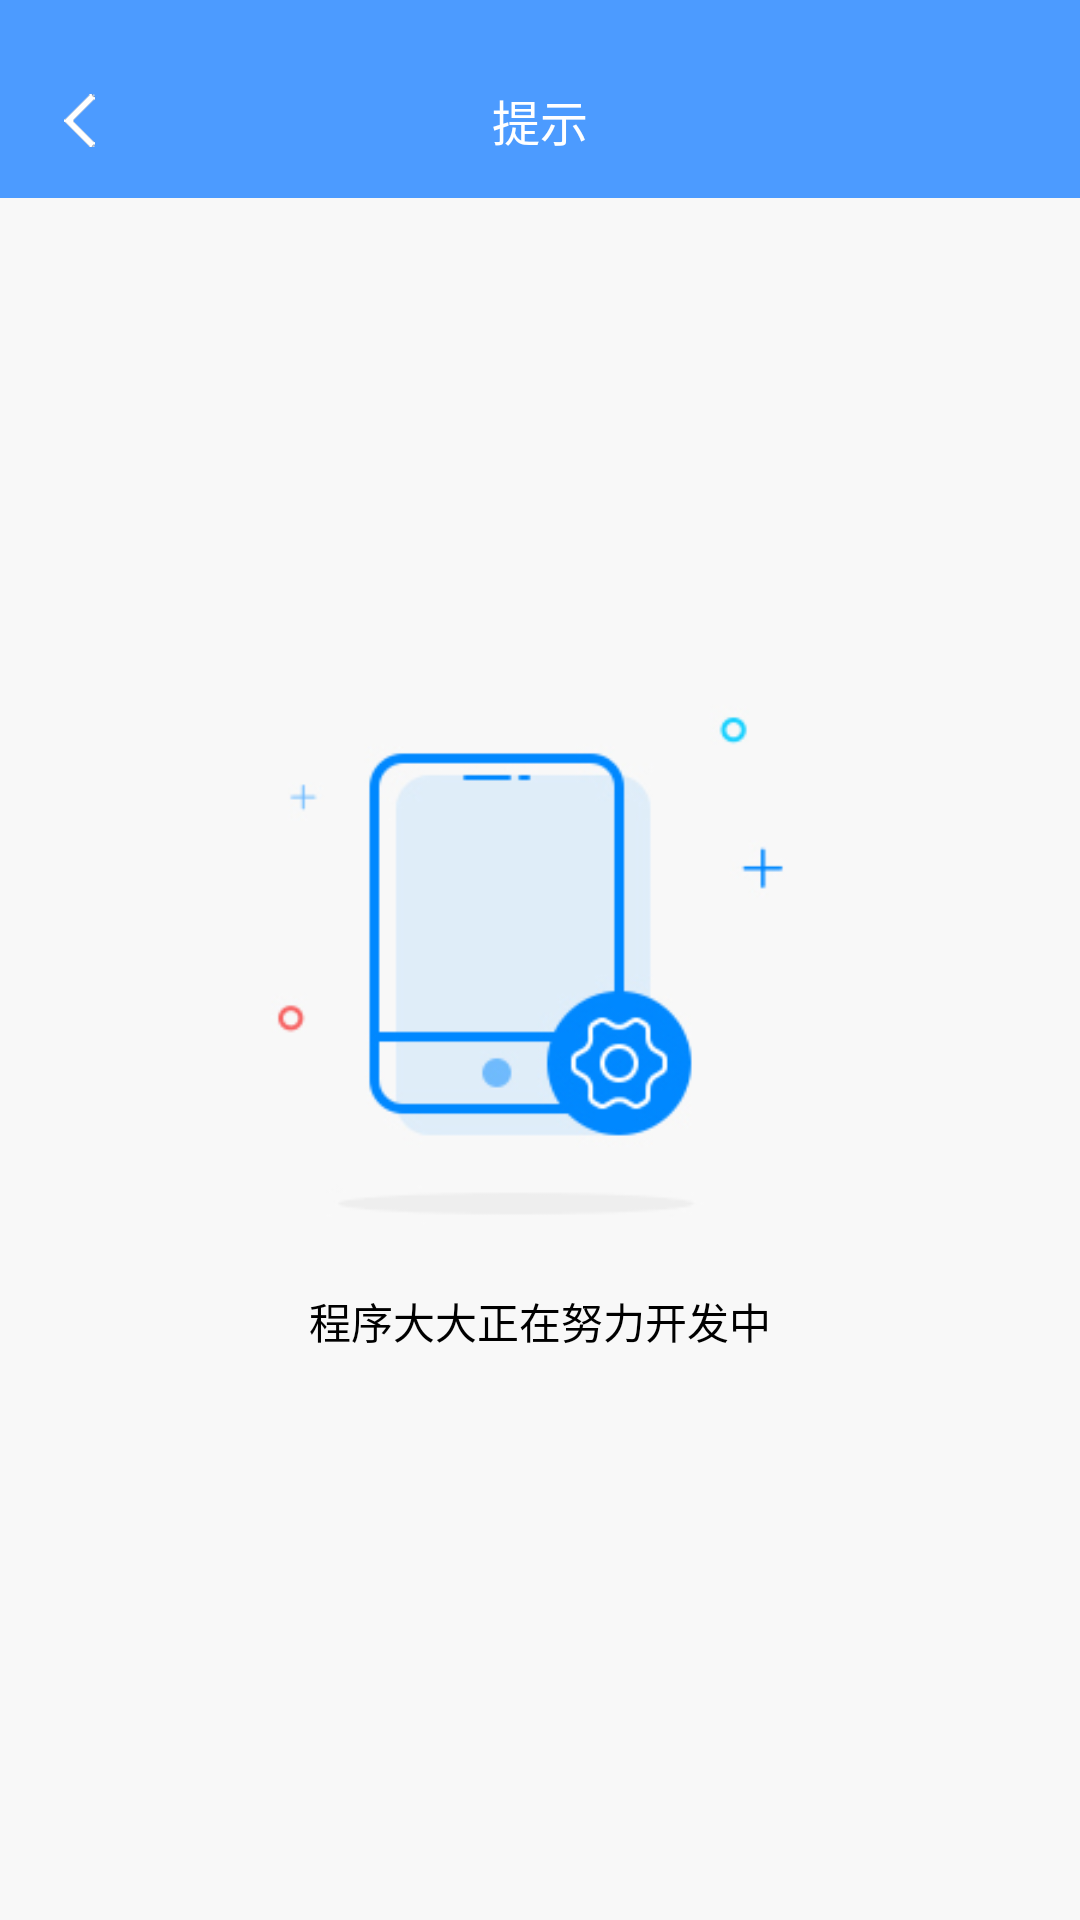

Point at icon controls on the screen. Image size 1080 × 1920, points as (x=x, y=y).
login return: (x=79, y=120)
